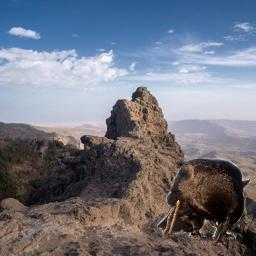Crow: (156, 157, 253, 244)
